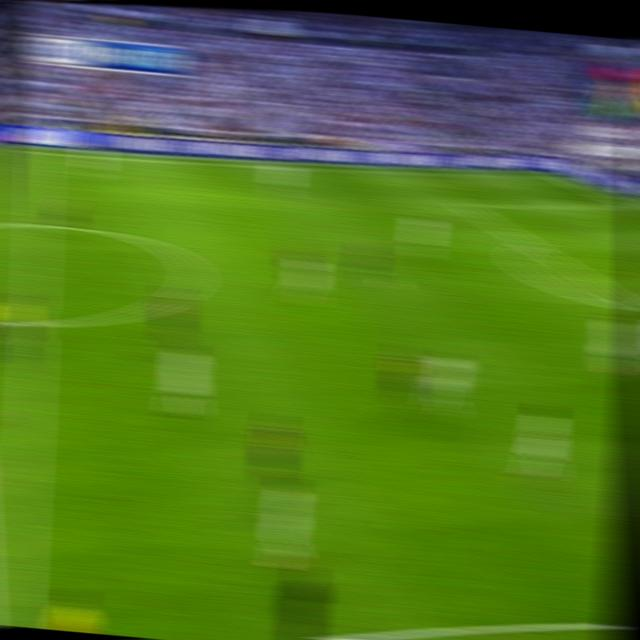corner: (545, 171, 568, 182)
halfcircle_bottom: (20, 308, 48, 337)
halfcircle_top: (26, 217, 50, 234)
midline_top_intersection: (29, 146, 52, 160)
top_arc_area_intersection: (518, 234, 542, 252)
